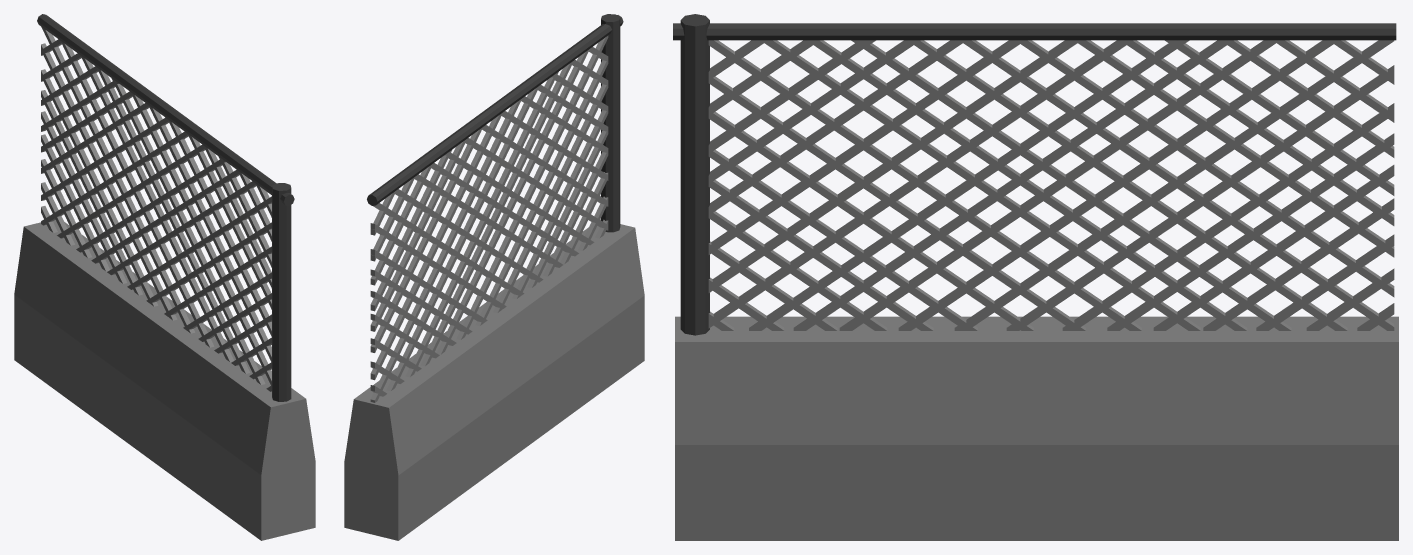
File: fence_02.fbx
3 renders of one model, left to right at view 1: azimuth 30°, elevation 25°; view 2: azimuth 150°, elevation 25°; view 3: azimuth 270°, elevation 25°, orthographic. The views are drawn at different scales.
Parts seen in each view (by area): view 1: fence_02; view 2: fence_02; view 3: fence_02.
Part boxes in pixels (x1,y1,x2,y2): fence_02: (14,14,315,540); fence_02: (344,14,644,540); fence_02: (673,14,1398,540).
Size of the model in its own units: 34.21 by 206 by 270.
1 material, 1 textured.
